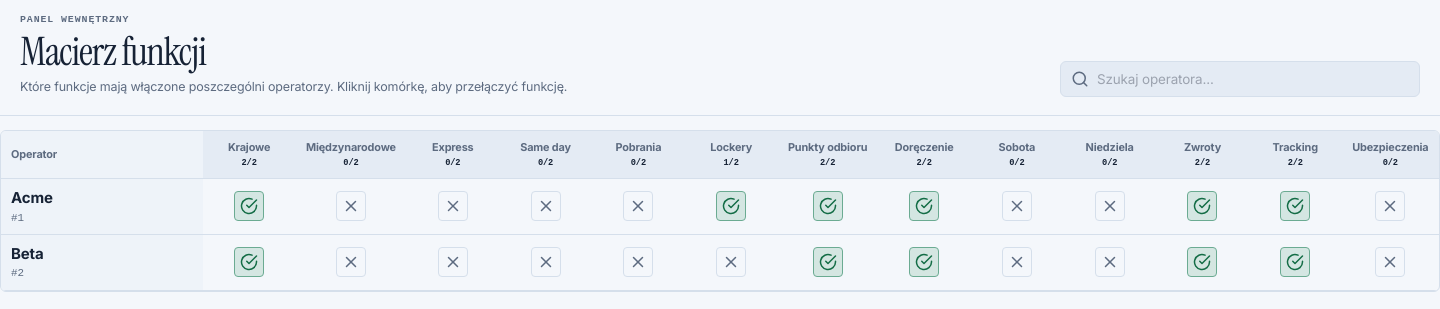
Test: FeatureMatrixPanel › filters operators by name
The image size is (1440, 309).
Type "bet" into the search field labelled "Szukaj operatora..." at (1253, 79), box [1097, 62, 1409, 96]
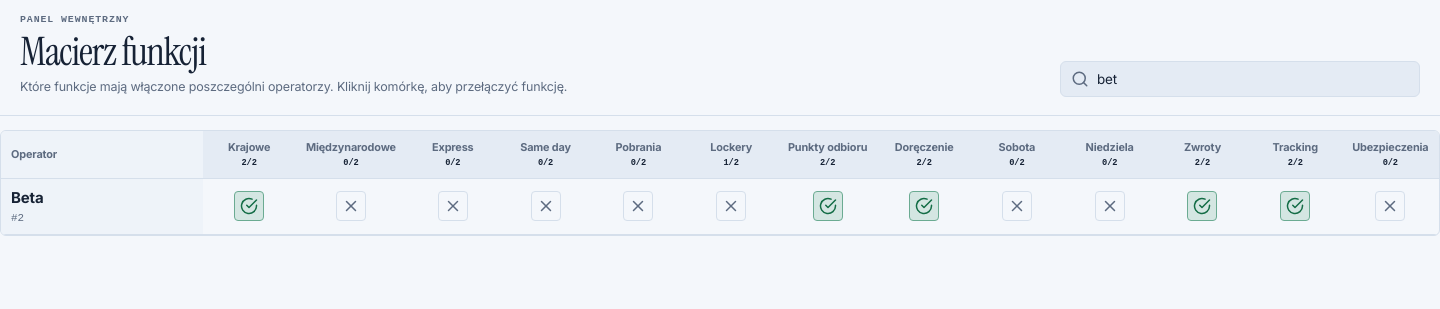
expect the text "Beta" is shown: met, box [11, 188, 44, 207]
expect the text "Acme" is gone: met
